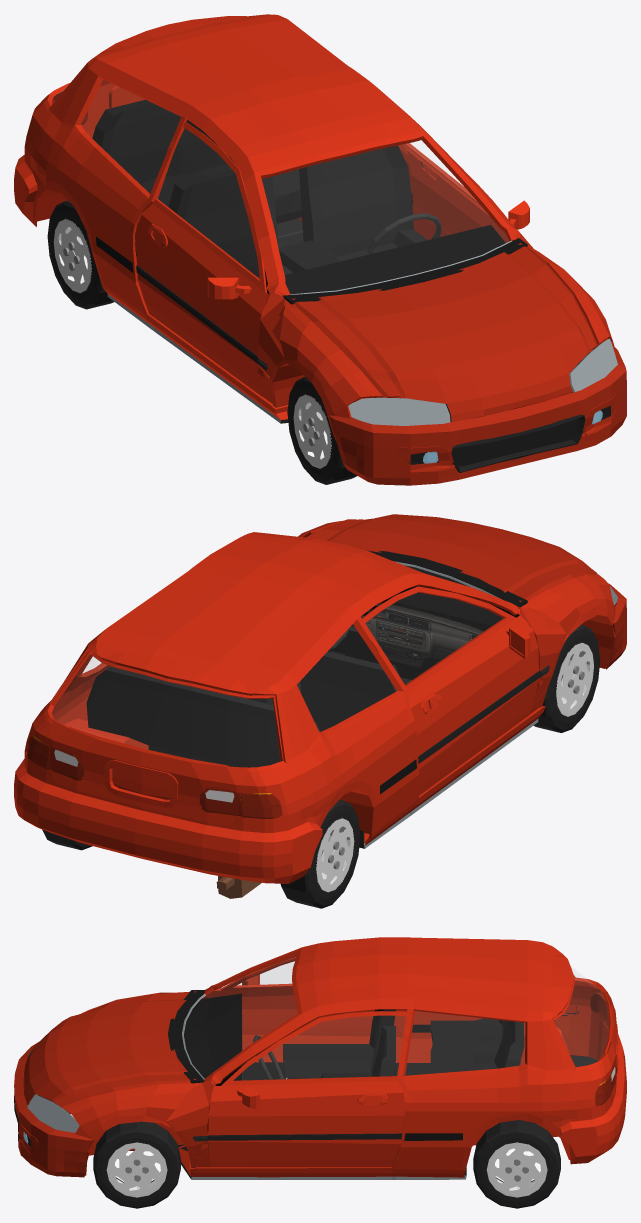
File: civic.glb
3 renders of one model, top to bottom at view 1: azimuth 30°, elevation 25°; view 2: azimuth 150°, elevation 25°; view 3: azimuth 270°, elevation 25°, orthographic. The views are drawn at different scales.
Visible parts, largest first — view 1: Carcasse, Capot, Chaises, Pare choc avant, Portes droit, Portes gauche, object 12, Pneu avant gauche, Feux avant, object 6, object 9, Volant; view 2: Carcasse, Chaises, Portes droit, object 9, object 6, Capot, object 12, Pneu avant gauche, Pare choc avant, Carcasse.001; view 3: Carcasse, Portes gauche, Capot, Chaises, object 11, Pneu avant droit, Portes droit, object 9, Pare choc avant, object 6, Feux avant.
Boxes of the visible parts, left/top/right/bottom form: Carcasse: left=24, top=14, right=615, bottom=440; Capot: left=292, top=243, right=598, bottom=421; Chaises: left=92, top=99, right=427, bottom=279; Pare choc avant: left=329, top=347, right=626, bottom=485; Portes droit: left=135, top=121, right=268, bottom=396; Portes gauche: left=403, top=143, right=533, bottom=248; object 12: left=47, top=200, right=113, bottom=309; Pneu avant gauche: left=287, top=377, right=357, bottom=484; Feux avant: left=348, top=338, right=617, bottom=425; object 6: left=43, top=79, right=145, bottom=130; object 9: left=14, top=129, right=94, bottom=226; Volant: left=367, top=213, right=441, bottom=254; Carcasse: left=24, top=519, right=615, bottom=880; Chaises: left=86, top=651, right=400, bottom=767; Portes droit: left=362, top=586, right=539, bottom=795; object 9: left=14, top=759, right=322, bottom=883; object 6: left=43, top=650, right=287, bottom=825; Capot: left=306, top=514, right=597, bottom=601; object 12: left=280, top=799, right=360, bottom=908; Pneu avant gauche: left=533, top=624, right=600, bottom=732; Pare choc avant: left=605, top=583, right=626, bottom=669; Carcasse.001: left=216, top=876, right=261, bottom=898; Carcasse: left=38, top=937, right=617, bottom=1179; Portes gauche: left=208, top=1011, right=410, bottom=1167; Capot: left=23, top=991, right=196, bottom=1107; Chaises: left=283, top=1009, right=524, bottom=1079; object 11: left=473, top=1120, right=560, bottom=1208; Pneu avant droit: left=93, top=1121, right=180, bottom=1208; Portes droit: left=211, top=957, right=405, bottom=1062; object 9: left=559, top=1015, right=626, bottom=1164; Pare choc avant: left=14, top=1042, right=92, bottom=1177; object 6: left=552, top=973, right=618, bottom=1098; Feux avant: left=27, top=1034, right=79, bottom=1132.
Bounding box in the file's own units: 1.31 × 0.9502 × 2.76.
4 materials, 3 textured.
